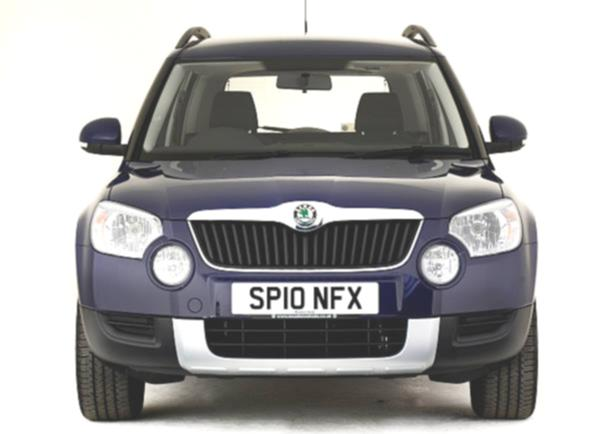skoda: (287, 199, 327, 229)
